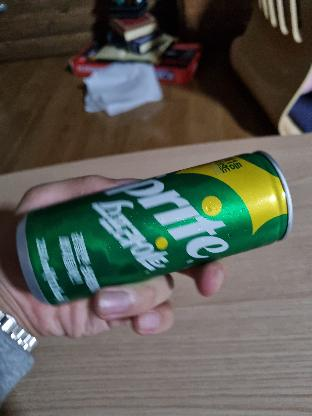Can: (11, 138, 294, 310)
